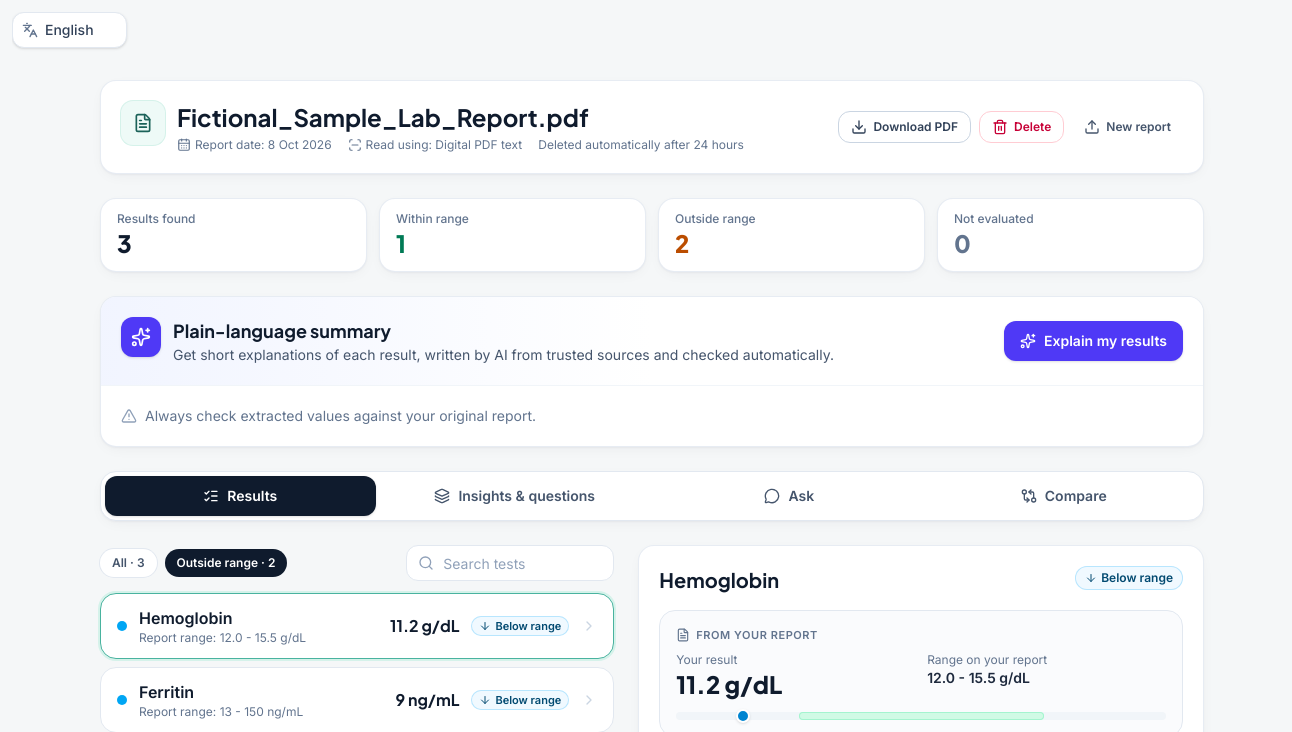
Test: report dashboard › reports PDF errors
Click the button "Download PDF". click: (905, 127)
box: [838,111,971,143]
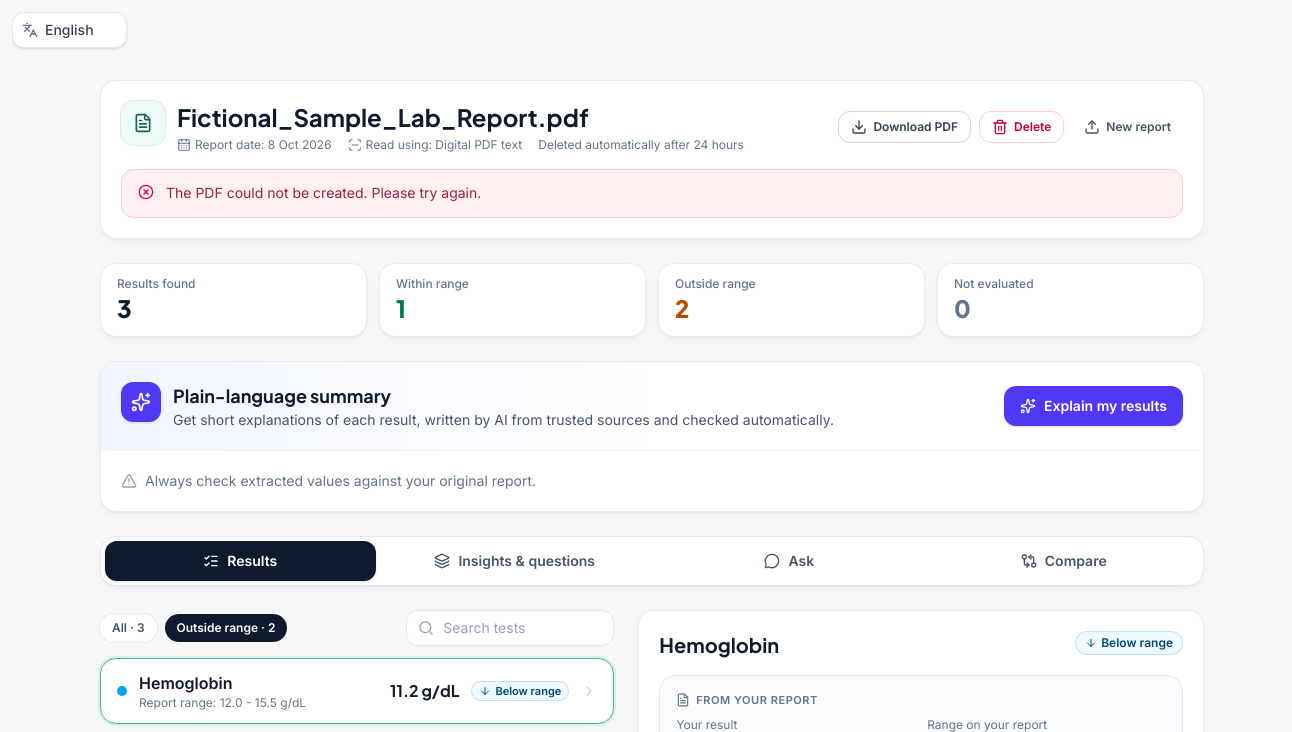
Check: the text "The PDF could not be created. Please try again." is shown, box [166,184,481,201]
